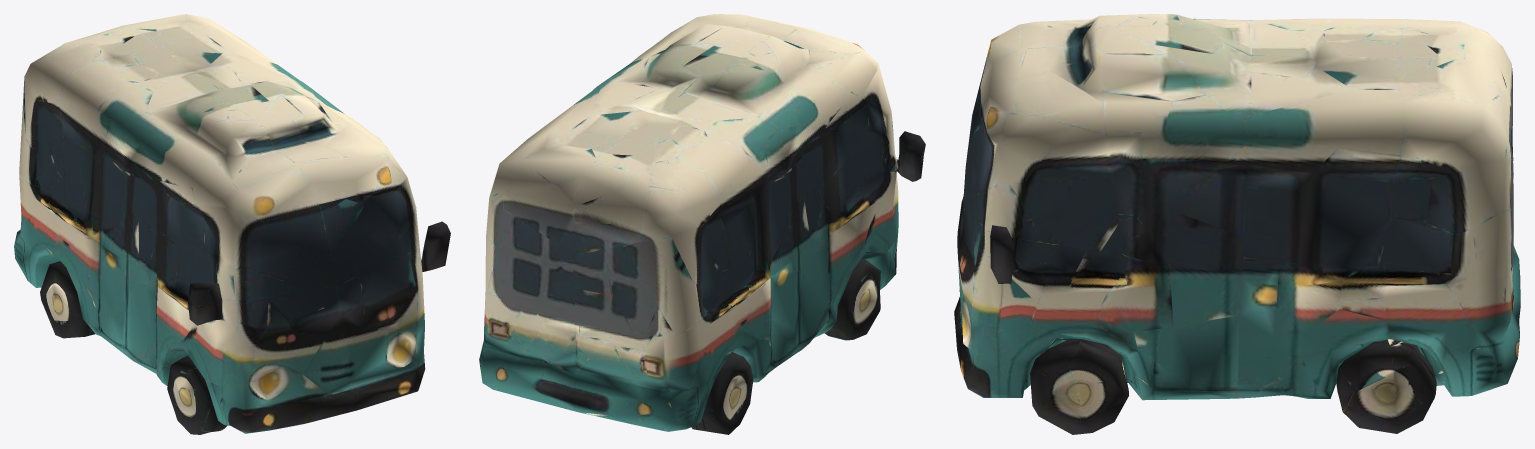
File: traffic-city-minibus.glb
The picture shows the model from 3 angles, left to right: view 1: azimuth 30°, elevation 25°; view 2: azimuth 150°, elevation 25°; view 3: azimuth 270°, elevation 25°; orthographic projection. The views are drawn at different scales.
Visible parts, largest first — view 1: mesh_node; view 2: mesh_node; view 3: mesh_node.
Boxes of the visible parts, bbox=[...] form: mesh_node: bbox=[14, 14, 450, 434]; mesh_node: bbox=[479, 14, 925, 434]; mesh_node: bbox=[954, 14, 1520, 434].
Size of the model in its own units: 3.29 by 3.44 by 5.19.
1 material, 1 textured.
